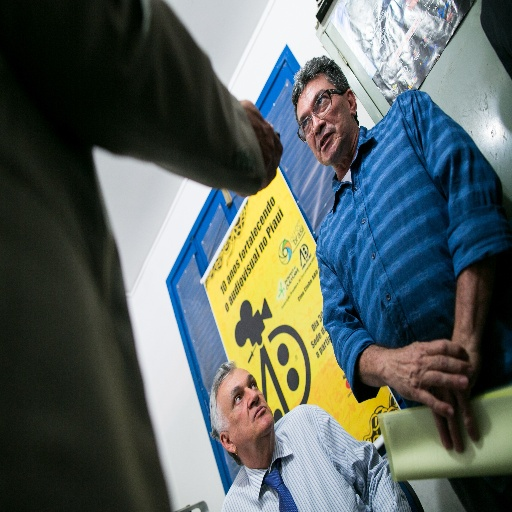hand: (426, 336, 488, 454), (234, 99, 281, 197)
